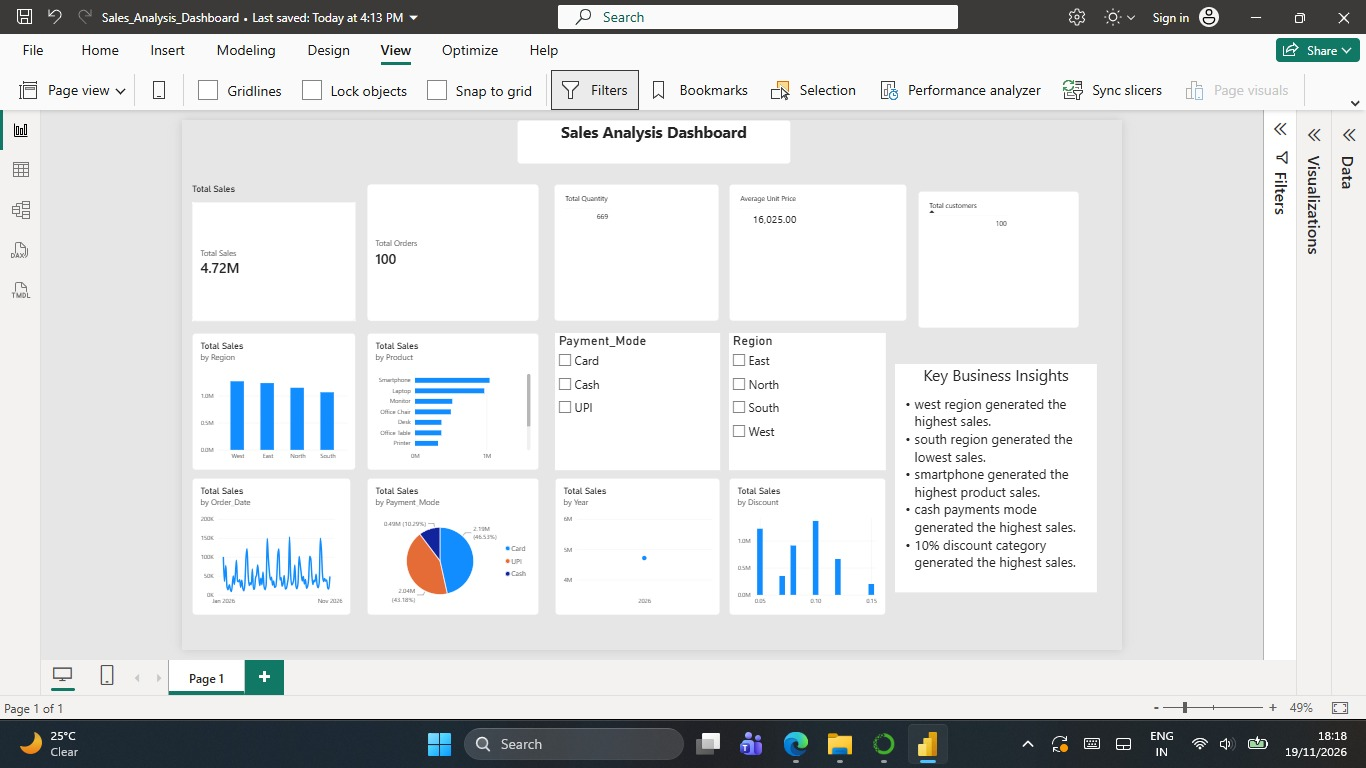

The dashboard page shown, as its layout file describes it:
{"tool":"powerbi","page":{"name":"Page 1","canvas":[1920,1080],"ordinal":0},"visuals":[{"type":"cardVisual","title":"Total Sales","fields":{"Data":["Sheet1.Total Sales"]},"box":[19.5,197.6,334.1,280.5],"z":0},{"type":"cardVisual","fields":{"Data":["Sheet1.Total Orders"]},"box":[378,197.6,351.2,280.5],"z":1},{"type":"tableEx","fields":{"Values":["Sheet1.Total Quantity"]},"box":[761,197.6,336.6,280.5],"z":2},{"type":"tableEx","fields":{"Values":["Sheet1.Average Unit Price"]},"box":[1117.1,197.6,363.4,280.5],"z":3},{"type":"tableEx","fields":{"Values":["Sheet1.Total customers"]},"box":[1504.9,197.6,329.3,280.5],"z":4},{"type":"clusteredColumnChart","fields":{"Category":["Sheet1.Region"],"Y":["Sheet1.Total Sales"]},"box":[14.6,497.6,334.1,280.5],"z":5},{"type":"clusteredBarChart","fields":{"Category":["Sheet1.Product"],"Y":["Sheet1.Total Sales"]},"box":[378,497.6,351.2,280.5],"z":6},{"type":"lineChart","fields":{"Category":["Sheet1.Order_Date.Variation.Date Hierarchy.Year","Sheet1.Order_Date.Variation.Date Hierarchy.Quarter","Sheet1.Order_Date.Variation.Date Hierarchy.Month","Sheet1.Order_Date.Variation.Date Hierarchy.Day"],"Y":["Sheet1.Total Sales"]},"box":[761,800,336.6,280.5],"z":7},{"type":"pieChart","fields":{"Category":["Sheet1.Payment_Mode"],"Y":["Sheet1.Total Sales"]},"box":[378,800,351.2,280.5],"z":8},{"type":"clusteredColumnChart","fields":{"Category":["Sheet1.Discount"],"Y":["Sheet1.Total Sales"]},"box":[1117.1,800,319.5,280.5],"z":9},{"type":"slicer","fields":{"Values":["Sheet1.Region"]},"box":[1117.1,497.6,319.5,280.5],"z":10},{"type":"slicer","fields":{"Values":["Sheet1.Payment_Mode"]},"box":[761,497.6,336.6,280.5],"z":11},{"type":"lineChart","fields":{"Category":["Sheet1.Order_Date"],"Y":["Sheet1.Total Sales"]},"box":[19.5,800,324.4,280.5],"z":12},{"type":"textbox","box":[1746,571,174,288],"z":15},{"type":"textbox","box":[682.9,0,558.5,90.2],"z":16},{"type":"textbox","box":[1456.1,497.6,412.2,465.9],"z":17}]}

Visuals, with their boxes on the page's 1920x1080 design canvas (x1, y1, x2, y2). These are canvas units, not pixel positions in the 1366x768 screenshot, which may show the page scaled, cropped or inside an application window:
"Total Sales" cardVisual: l=20, t=198, r=354, b=478
cardVisual - Sheet1.Total Orders: l=378, t=198, r=729, b=478
tableEx - Sheet1.Total Quantity: l=761, t=198, r=1098, b=478
tableEx - Sheet1.Average Unit Price: l=1117, t=198, r=1480, b=478
tableEx - Sheet1.Total customers: l=1505, t=198, r=1834, b=478
clusteredColumnChart - Sheet1.Region x Sheet1.Total Sales: l=15, t=498, r=349, b=778
clusteredBarChart - Sheet1.Product x Sheet1.Total Sales: l=378, t=498, r=729, b=778
lineChart - Sheet1.Order_Date.Variation.Date Hierarchy.Year x Sheet1.Order_Date.Variation.Date Hierarchy.Quarter: l=761, t=800, r=1098, b=1080
pieChart - Sheet1.Payment_Mode x Sheet1.Total Sales: l=378, t=800, r=729, b=1080
clusteredColumnChart - Sheet1.Discount x Sheet1.Total Sales: l=1117, t=800, r=1437, b=1080
slicer - Sheet1.Region: l=1117, t=498, r=1437, b=778
slicer - Sheet1.Payment_Mode: l=761, t=498, r=1098, b=778
lineChart - Sheet1.Order_Date x Sheet1.Total Sales: l=20, t=800, r=344, b=1080
textbox: l=1746, t=571, r=1920, b=859
textbox: l=683, t=0, r=1241, b=90
textbox: l=1456, t=498, r=1868, b=964
